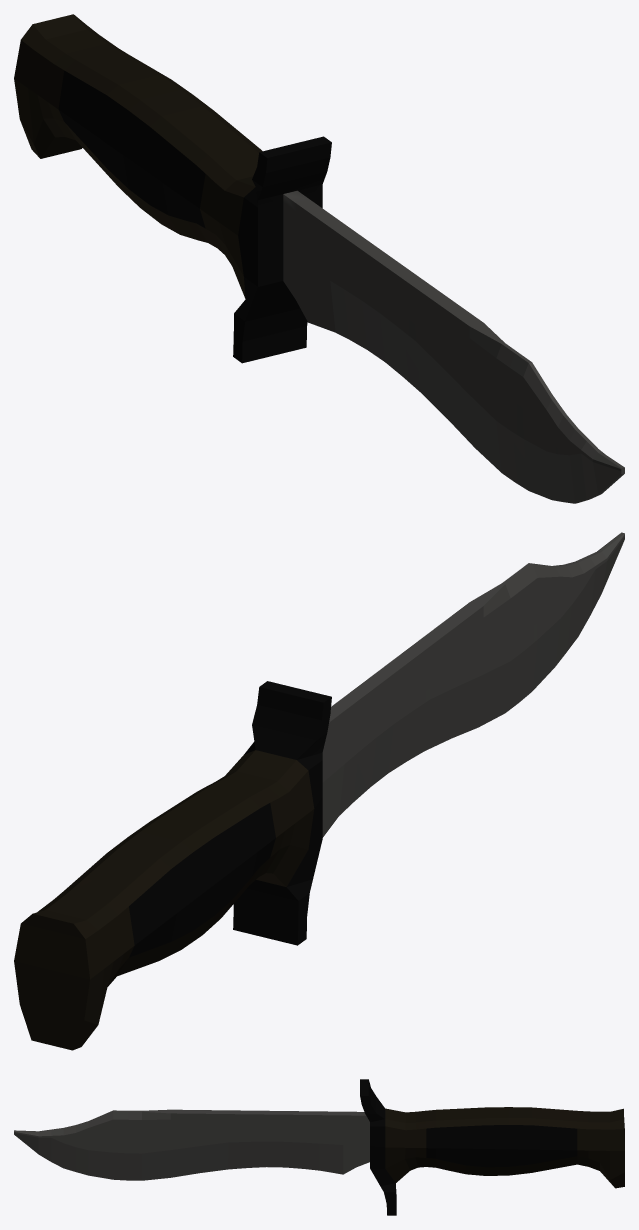
File: Hunting Knife.fbx
3 views of the same model, one above another, from view 1: azimuth 30°, elevation 25°; view 2: azimuth 150°, elevation 25°; view 3: azimuth 270°, elevation 25° (orthographic). The views are drawn at different scales.
Parts seen in each view (by area): view 1: Hunting Knife; view 2: Hunting Knife; view 3: Hunting Knife.
Part boxes in pixels (bbox=[...]): Hunting Knife: bbox=[14, 14, 624, 503]; Hunting Knife: bbox=[14, 532, 624, 1050]; Hunting Knife: bbox=[14, 1079, 624, 1215].
Bounding box in the file's own units: 0.0245 × 0.0689 × 0.3189.
